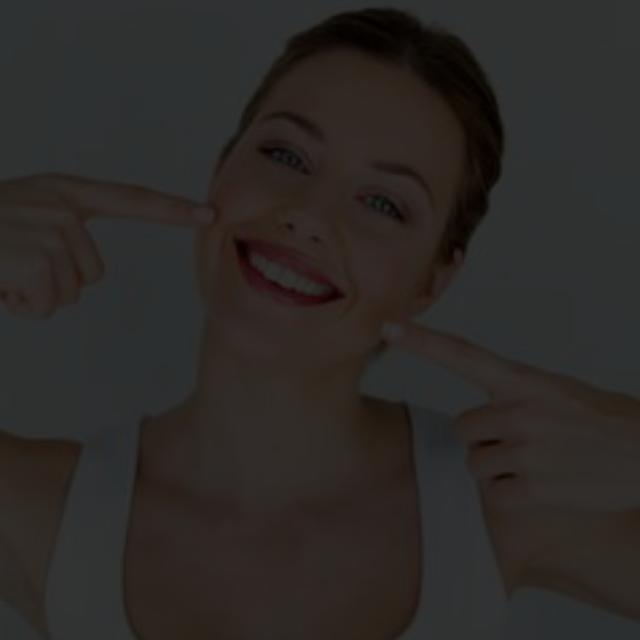Happy: (165, 62, 500, 392)
